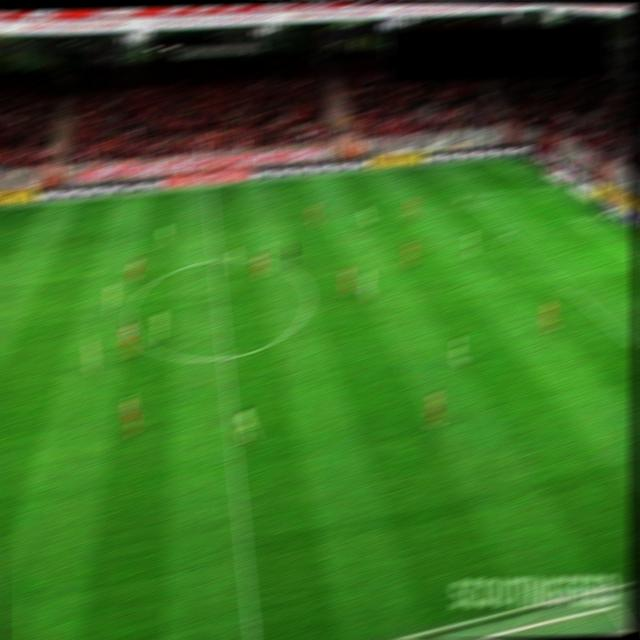bigarea_top_inner: (454, 189, 473, 202)
bigarea_top_outter: (554, 180, 571, 191)
bottom_arc_area_intersection: (566, 287, 585, 303)
corner: (508, 154, 525, 164)
halfcircle_bottom: (216, 350, 233, 363)
halfcircle_top: (208, 254, 224, 265)
midline_top_intersection: (200, 182, 217, 192)
smallarea_top_inner: (566, 214, 583, 225)
smallarea_top_outter: (602, 210, 618, 221)
top_arc_area_intersection: (497, 225, 515, 240)
